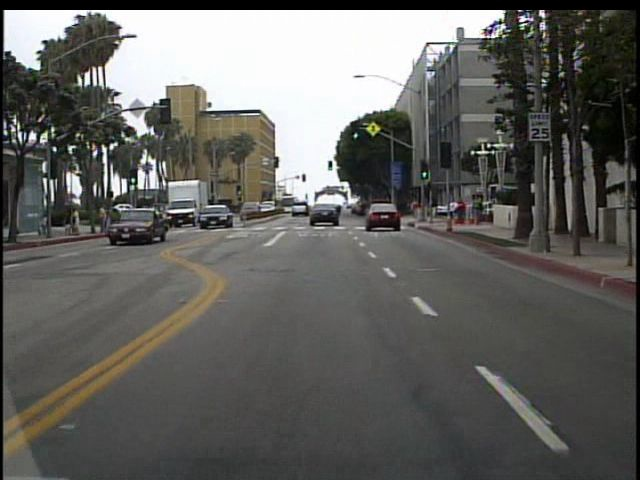person: (99, 198, 111, 236), (41, 213, 52, 237)
